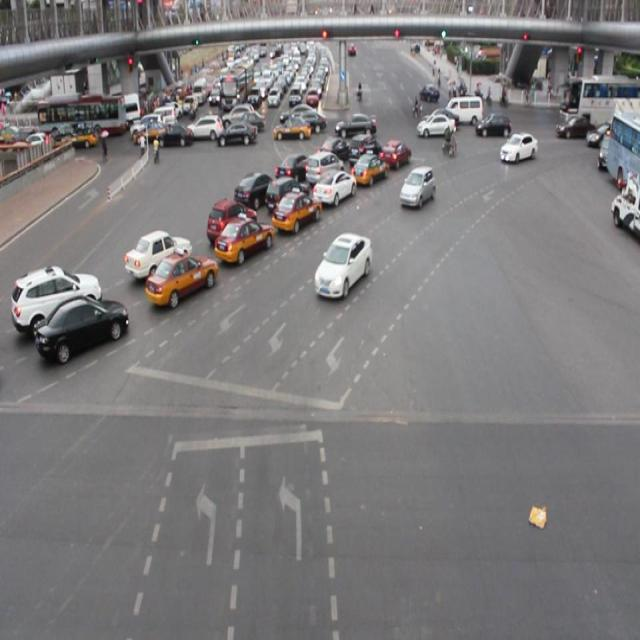car: (35, 292, 126, 362), (10, 263, 101, 326), (145, 250, 216, 308), (315, 233, 371, 296), (124, 230, 191, 276), (215, 212, 272, 262), (205, 196, 256, 246), (270, 188, 319, 234), (312, 166, 355, 206), (264, 176, 309, 213), (235, 172, 278, 210), (399, 166, 435, 206), (274, 153, 314, 188), (351, 149, 388, 186), (498, 132, 536, 162), (378, 138, 409, 170), (348, 132, 379, 164), (316, 134, 349, 162)
truck: (304, 152, 344, 188)
